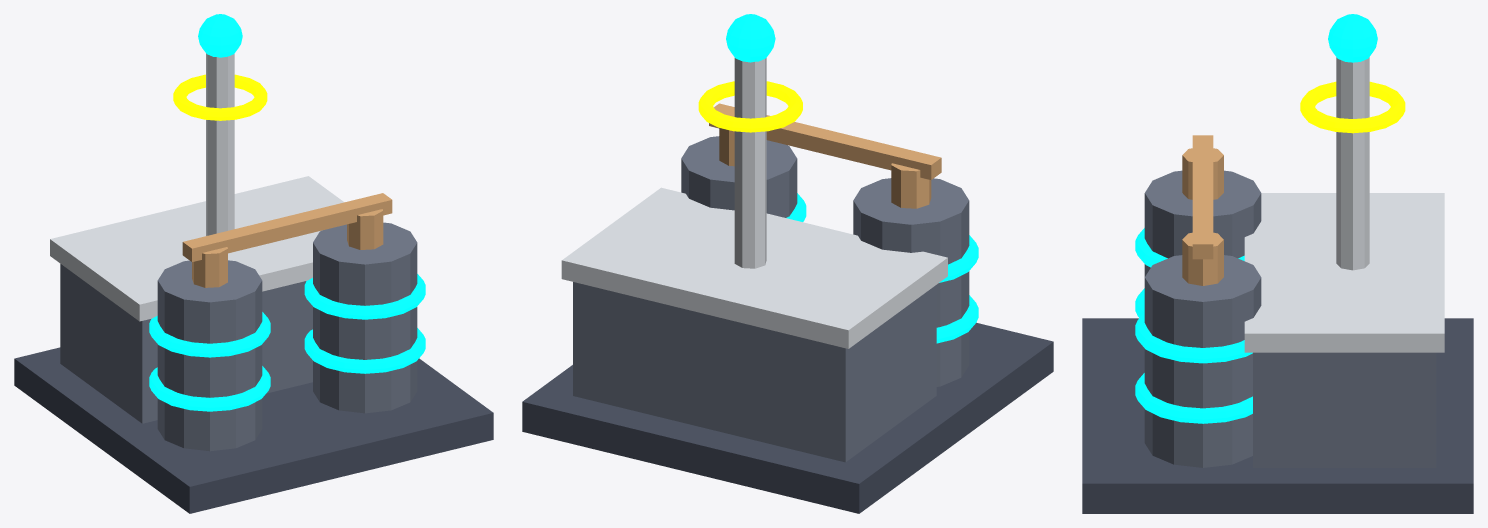
The model's file is landmark_substation.glb.
3 views of the same model, side by side, from view 1: azimuth 30°, elevation 25°; view 2: azimuth 150°, elevation 25°; view 3: azimuth 270°, elevation 25° (orthographic). The views are drawn at different scales.
Visible parts, largest first — view 1: plinth, hall_roof, coil_0, coil_1, switchgear_hall, pylon_mast, busbar_bridge, PylonHalo, PlasmaRingA_0, PlasmaRingA_1, PlasmaRingB_1, PlasmaRingB_0 (+3 smaller); view 2: switchgear_hall, hall_roof, plinth, coil_0, pylon_mast, coil_1, busbar_bridge, PylonHalo, Beacon, bushing_0, PlasmaRingA_0, PlasmaRingB_0; view 3: plinth, hall_roof, switchgear_hall, coil_1, pylon_mast, coil_0, busbar_bridge, PylonHalo, PlasmaRingA_1, PlasmaRingB_1, Beacon, bushing_1 (+2 smaller).
Boxes of the visible parts, x1,y1,x2,y2 form: plinth: [14, 347, 493, 513]; hall_roof: [50, 176, 343, 321]; coil_0: [157, 260, 262, 451]; coil_1: [313, 222, 417, 413]; switchgear_hall: [60, 264, 312, 423]; pylon_mast: [206, 53, 234, 235]; busbar_bridge: [182, 193, 392, 261]; PylonHalo: [173, 74, 267, 120]; PlasmaRingA_0: [149, 366, 270, 411]; PlasmaRingA_1: [304, 328, 425, 373]; PlasmaRingB_1: [304, 274, 425, 319]; PlasmaRingB_0: [149, 312, 270, 357]; switchgear_hall: [573, 282, 936, 462]; hall_roof: [561, 187, 947, 348]; plinth: [522, 322, 1053, 513]; coil_0: [853, 178, 969, 386]; pylon_mast: [734, 58, 766, 268]; coil_1: [681, 136, 797, 217]; busbar_bridge: [709, 103, 941, 179]; PylonHalo: [698, 81, 802, 132]; Beacon: [726, 14, 775, 62]; bushing_0: [891, 163, 931, 208]; PlasmaRingA_0: [936, 295, 978, 343]; PlasmaRingB_0: [939, 235, 978, 282]; plinth: [1082, 318, 1473, 513]; hall_roof: [1244, 193, 1444, 352]; switchgear_hall: [1253, 352, 1436, 467]; coil_1: [1144, 255, 1261, 467]; pylon_mast: [1336, 57, 1369, 270]; coil_0: [1144, 170, 1261, 276]; busbar_bridge: [1192, 135, 1213, 259]; PylonHalo: [1300, 81, 1405, 133]; PlasmaRingA_1: [1135, 373, 1252, 423]; PlasmaRingB_1: [1135, 312, 1252, 363]; Beacon: [1328, 14, 1377, 62]; bushing_1: [1182, 232, 1223, 285].
Bounding box in the file's own units: 0.94 × 1.1 × 0.94.
